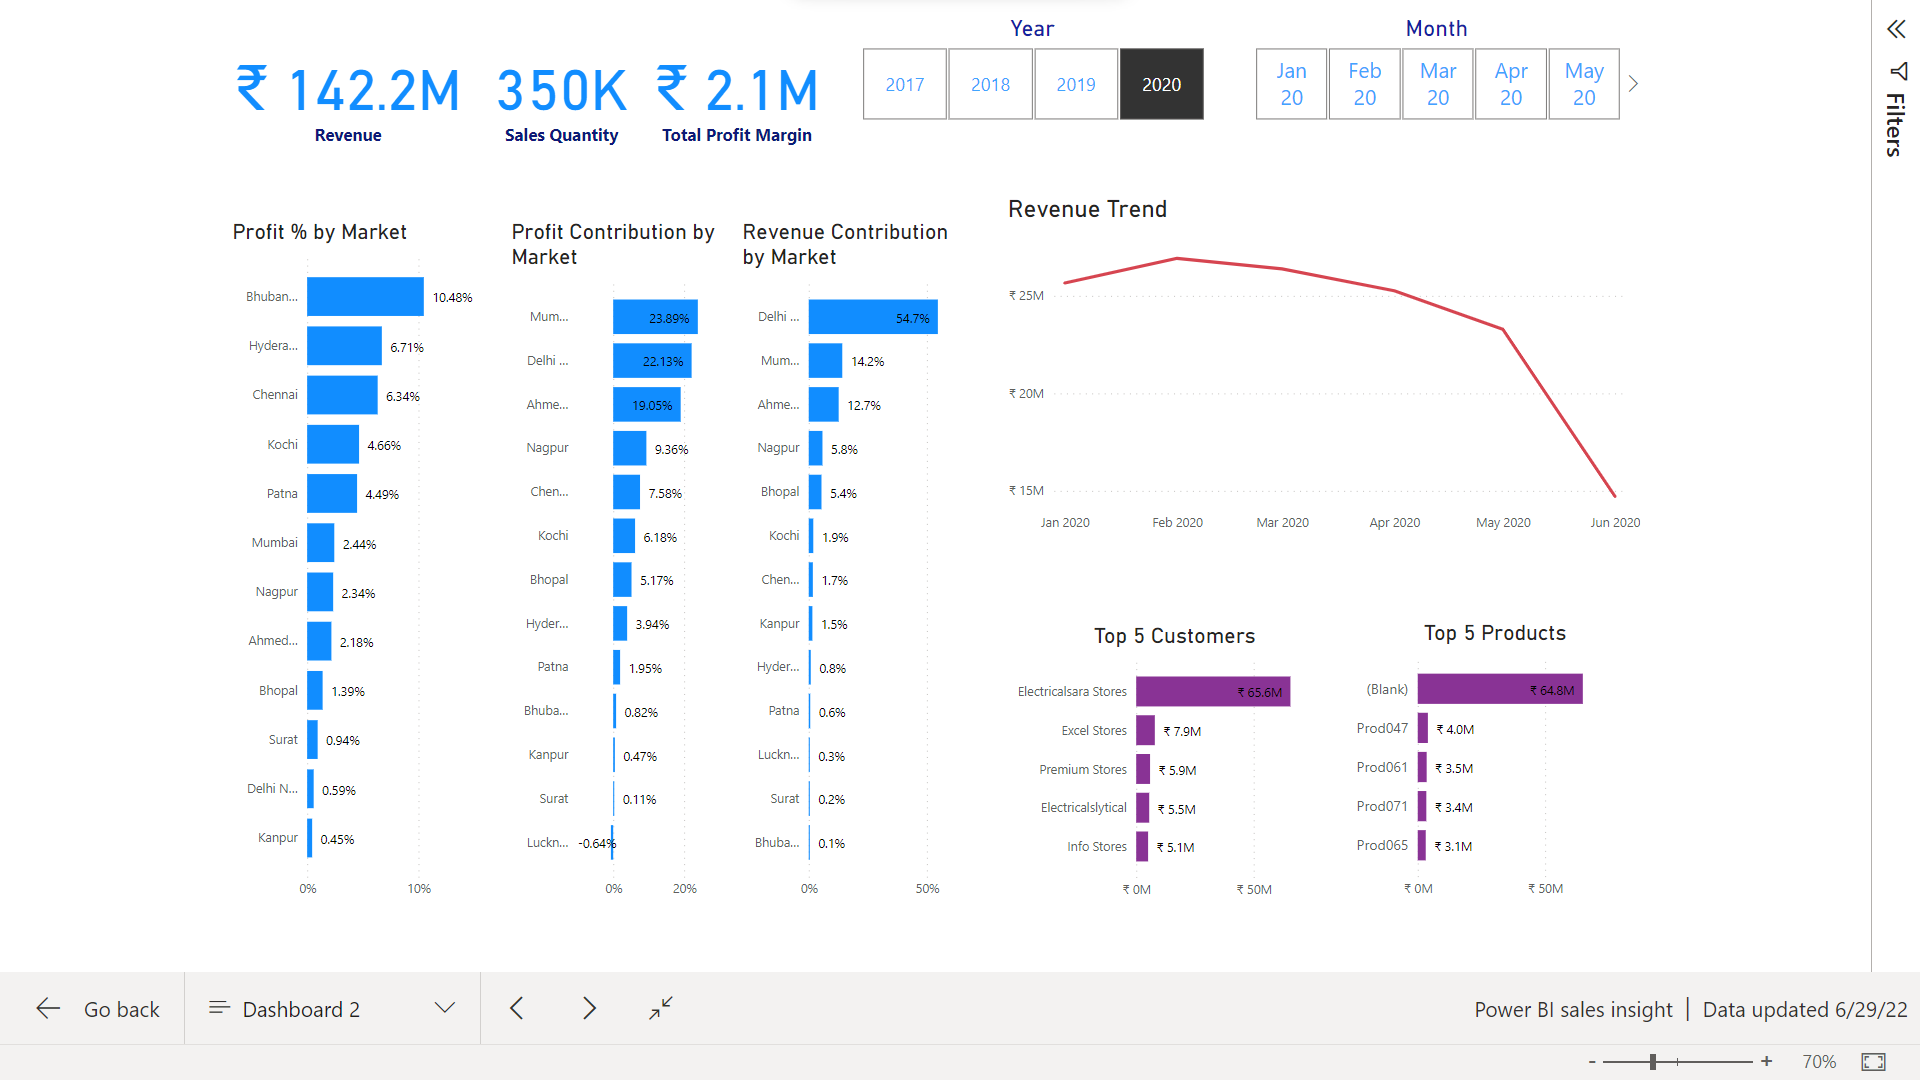

The page's visual inventory and layout, read from the dashboard file:
{"tool":"powerbi","page":{"name":"Dashboard 2","canvas":[1350,850],"ordinal":1},"visuals":[{"type":"card","fields":{"Values":["Base Measures.Revenue"]},"box":[0,0,230,150],"z":0},{"type":"card","fields":{"Values":["Base Measures.sales quantity"]},"box":[234,0,168,150],"z":1000},{"type":"barChart","title":"Profit % by Market","fields":{"Category":["sales markets.markets_name"],"Y":["Base Measures.Profit Margin %"]},"box":[0,194,252,656],"z":2000},{"type":"barChart","title":"Profit Contribution by Market","fields":{"Category":["sales markets.markets_name"],"Y":["Base Measures.profit margin contribution"]},"box":[266,194,220,656],"z":3000},{"type":"slicer","title":"Year","fields":{"Values":["sales date.year"]},"box":[580,0,374,106],"z":4000},{"type":"slicer","title":"Month","fields":{"Values":["sales date.cy_date"]},"box":[954,0,396,106],"z":5000},{"type":"barChart","title":"Top 5 Customers","fields":{"Category":["sales customers.custmer_name"],"Y":["Base Measures.Revenue"]},"box":[738,578,328,272],"z":6000},{"type":"barChart","title":"Top 5 Products","fields":{"Y":["Base Measures.Revenue"],"Category":["sales products.product_code"]},"box":[1066,576,284,274],"z":7000},{"type":"lineChart","title":"Revenue Trend","fields":{"Y":["Base Measures.Revenue"],"Category":["sales date.cy_date"]},"box":[738,172,612,330],"z":8000},{"type":"card","fields":{"Values":["Base Measures.Total Profit Margin"]},"box":[402,0,168,150],"z":9000},{"type":"barChart","title":"Revenue Contribution by Market","fields":{"Category":["sales markets.markets_name"],"Y":["Base Measures.revenue contribution"]},"box":[486,194,220,656],"z":10000}]}

Visuals, with their boxes on the page's 1350x850 design canvas (x1, y1, x2, y2). These are canvas units, not pixel positions in the 1920x1080 screenshot, which may show the page scaled, cropped or inside an application window:
card - Base Measures.Revenue: <box>0,0,230,150</box>
card - Base Measures.sales quantity: <box>234,0,402,150</box>
"Profit % by Market" barChart: <box>0,194,252,850</box>
"Profit Contribution by Market" barChart: <box>266,194,486,850</box>
"Year" slicer: <box>580,0,954,106</box>
"Month" slicer: <box>954,0,1350,106</box>
"Top 5 Customers" barChart: <box>738,578,1066,850</box>
"Top 5 Products" barChart: <box>1066,576,1350,850</box>
"Revenue Trend" lineChart: <box>738,172,1350,502</box>
card - Base Measures.Total Profit Margin: <box>402,0,570,150</box>
"Revenue Contribution by Market" barChart: <box>486,194,706,850</box>
